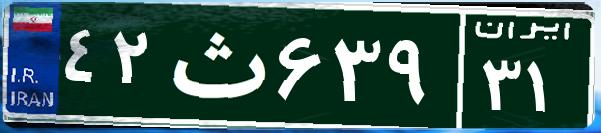1: (525, 38, 570, 115)
2: (110, 28, 158, 105)
3: (330, 28, 385, 110), (475, 38, 525, 113)
4: (57, 26, 110, 107)
6: (273, 28, 330, 110)
9: (385, 28, 445, 110)
ث: (158, 15, 273, 115)
